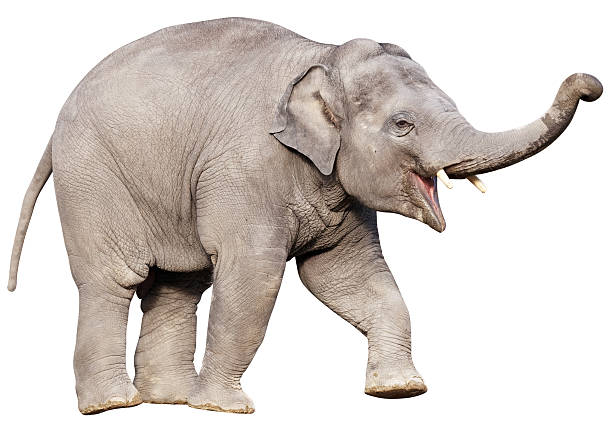elephant: (8, 10, 601, 420)
